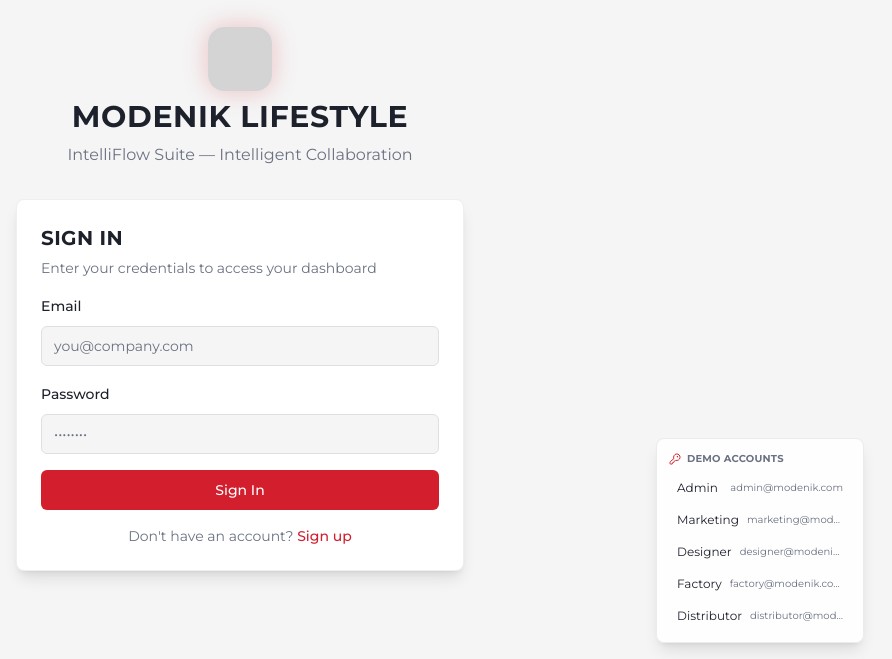
Scenario: LoginPage › fills credentials when demo account is clicked
Click the text "Admin": (697, 488) [677,480,718,496]
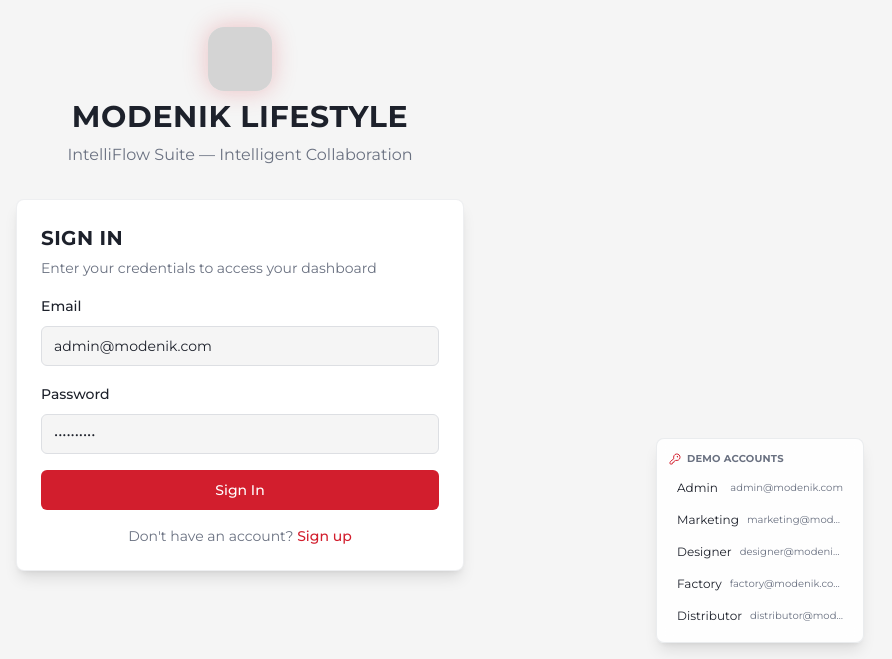
Expected: the field labelled "Email" holds "admin@modenik.com", [41,326,439,366]
Expected: the password field labelled "Password" holds "test123456", [41,414,439,454]
